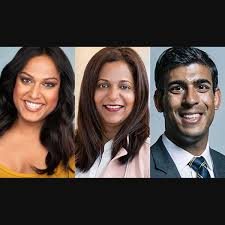men: (157, 49, 224, 149)
women: (81, 48, 152, 140), (6, 46, 73, 134)
